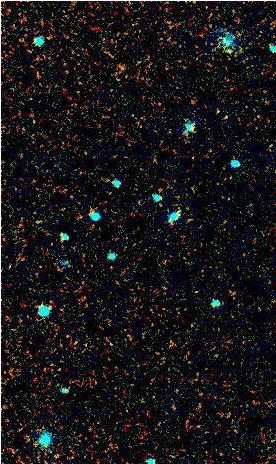star: (213, 38, 243, 68)
